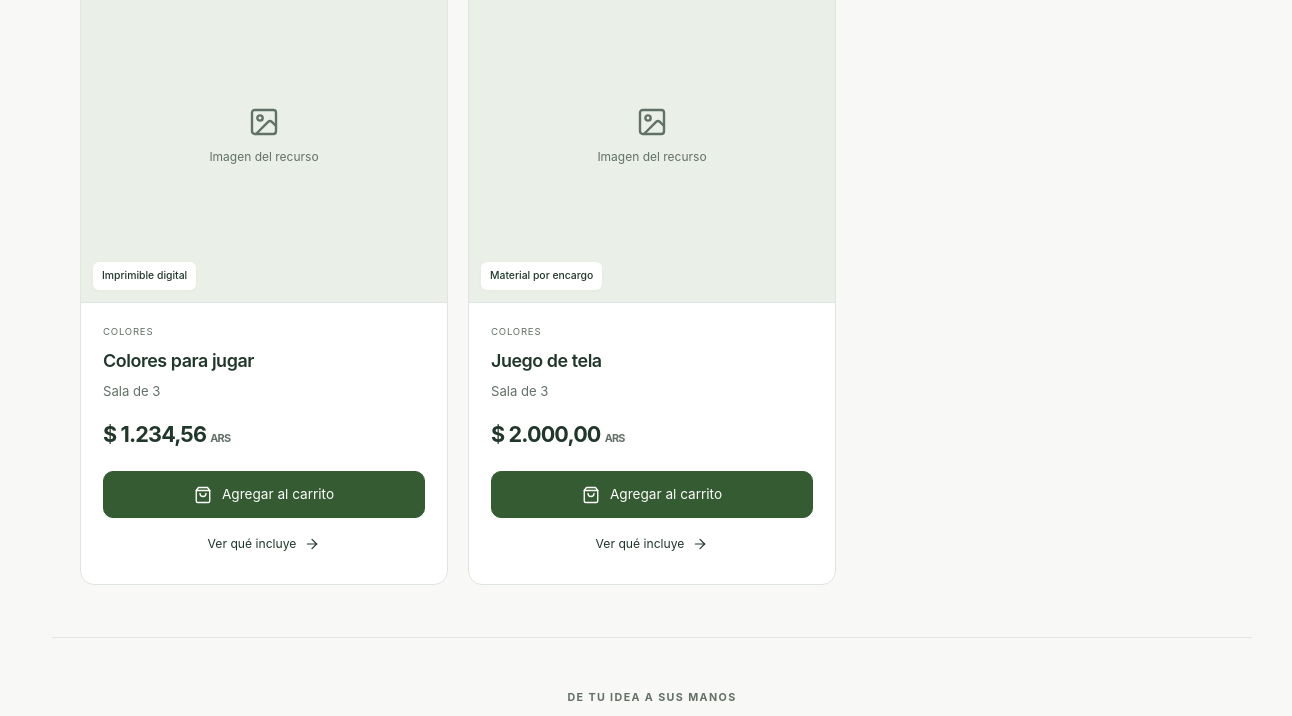
Test: cached storefront navigation › opens catalog and a product without requesting HTML or JSON again
(page scrolled)
Click the link "Colores para jugar".
click(178, 361)  # box [103,350,254,371]
(page scrolled)
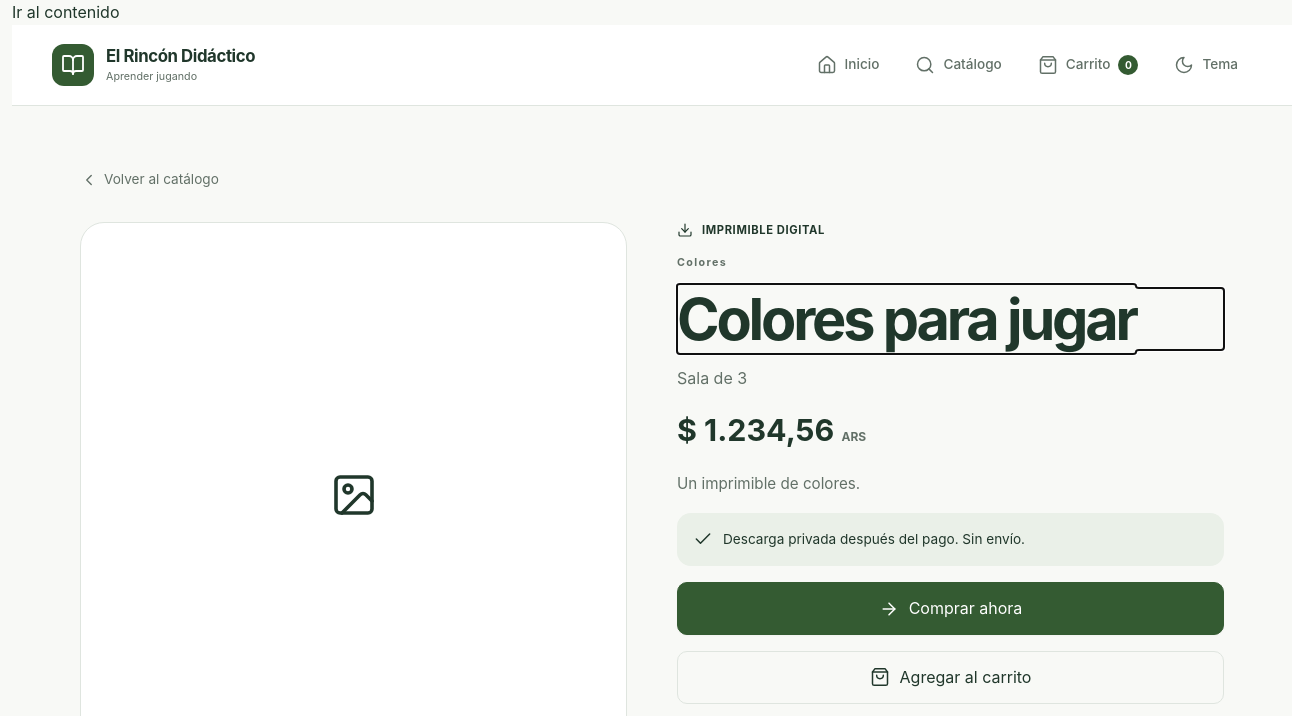
Expected: the heading "Colores para jugar" is shown, [677,284,1136,354]
Click the link "Volver al catálogo".
click(149, 180)  # box [80,171,219,189]
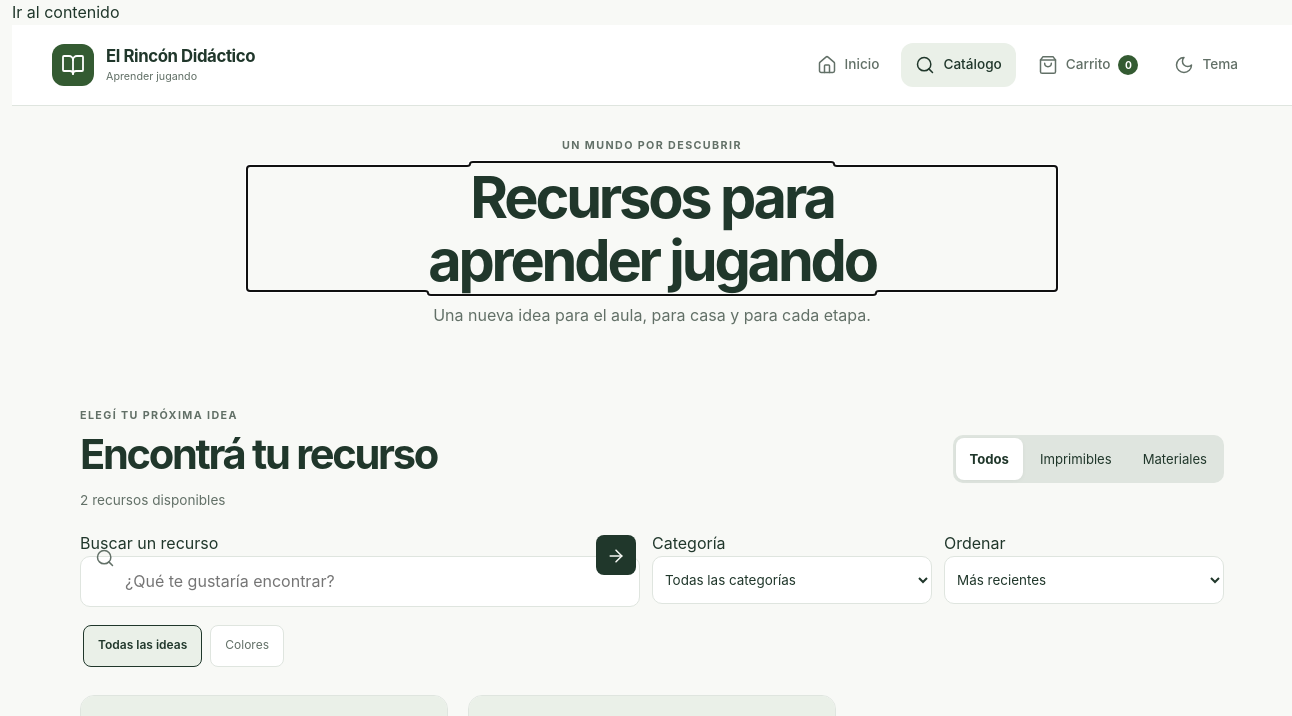
Expected: the heading "Recursos para aprender jugando" is shown, [428,162,876,295]
